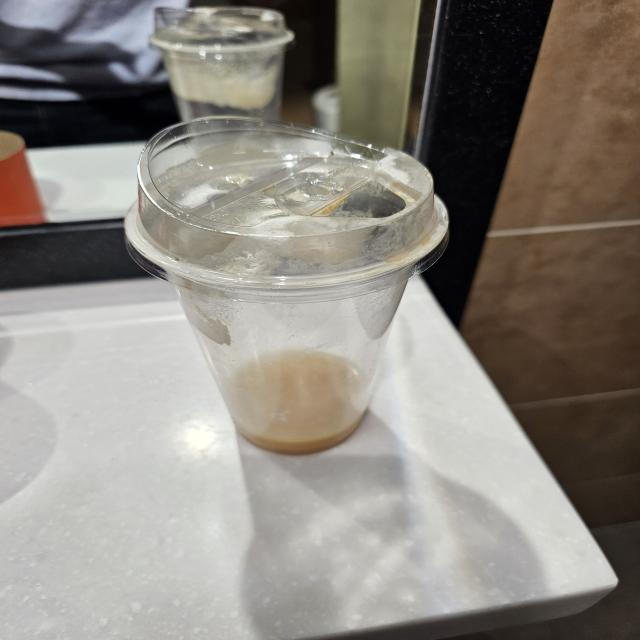cup: (115, 112, 459, 462)
